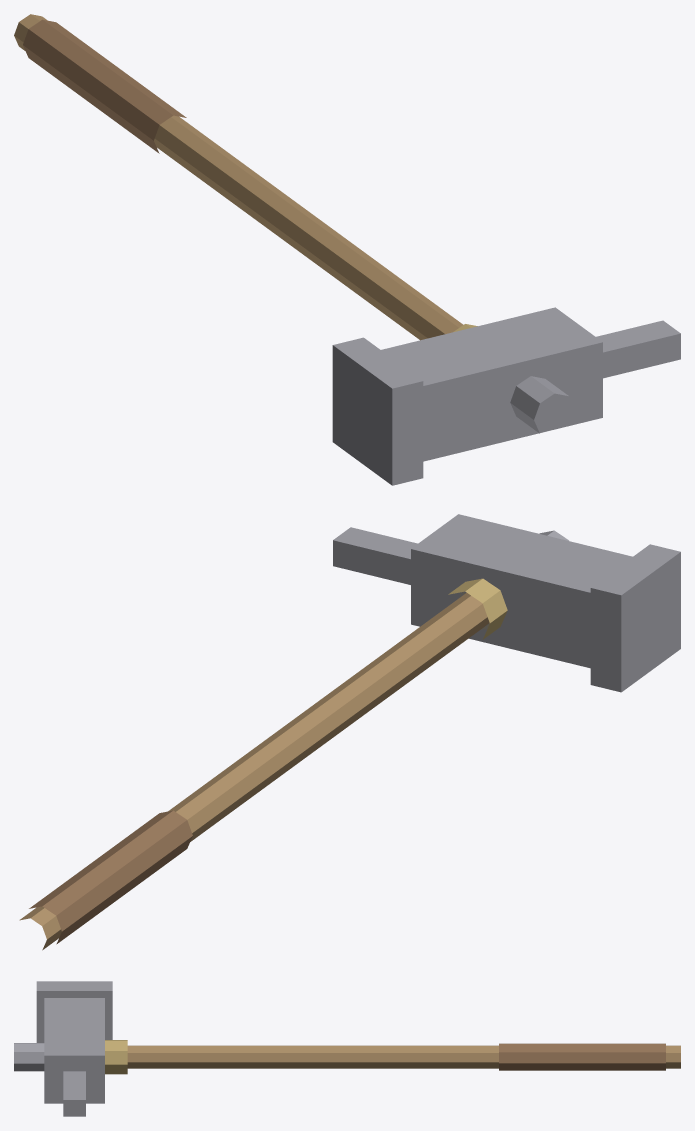
File: hammer.glb
3 views of the same model, one above another, from view 1: azimuth 30°, elevation 25°; view 2: azimuth 150°, elevation 25°; view 3: azimuth 270°, elevation 25° (orthographic). The views are drawn at different scales.
Parts seen in each view (by area): view 1: prop; view 2: prop; view 3: prop.
Boxes of the visible parts, x1,y1,x2,y2 form: prop: (14, 14, 680, 485); prop: (19, 514, 680, 950); prop: (14, 981, 680, 1116).
Bounding box in the file's own units: 0.3 × 0.09 × 0.88.
